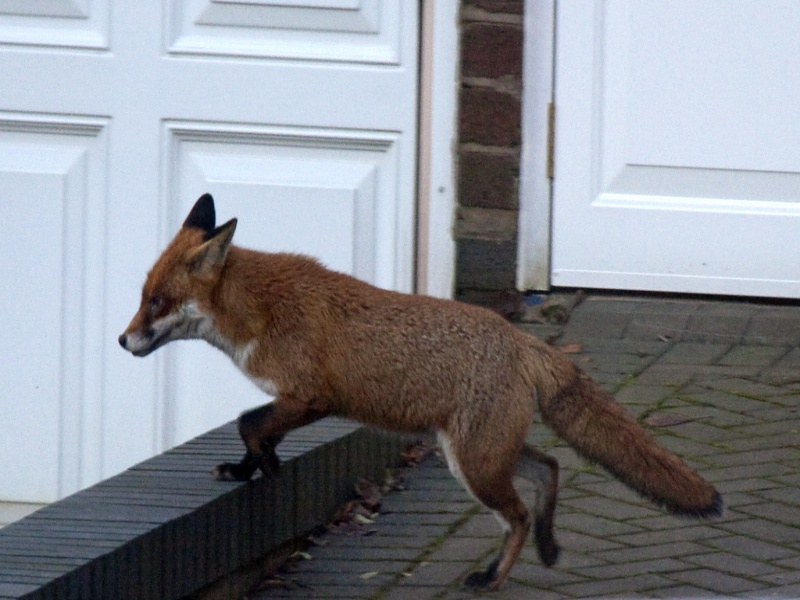fox: (113, 194, 725, 583)
